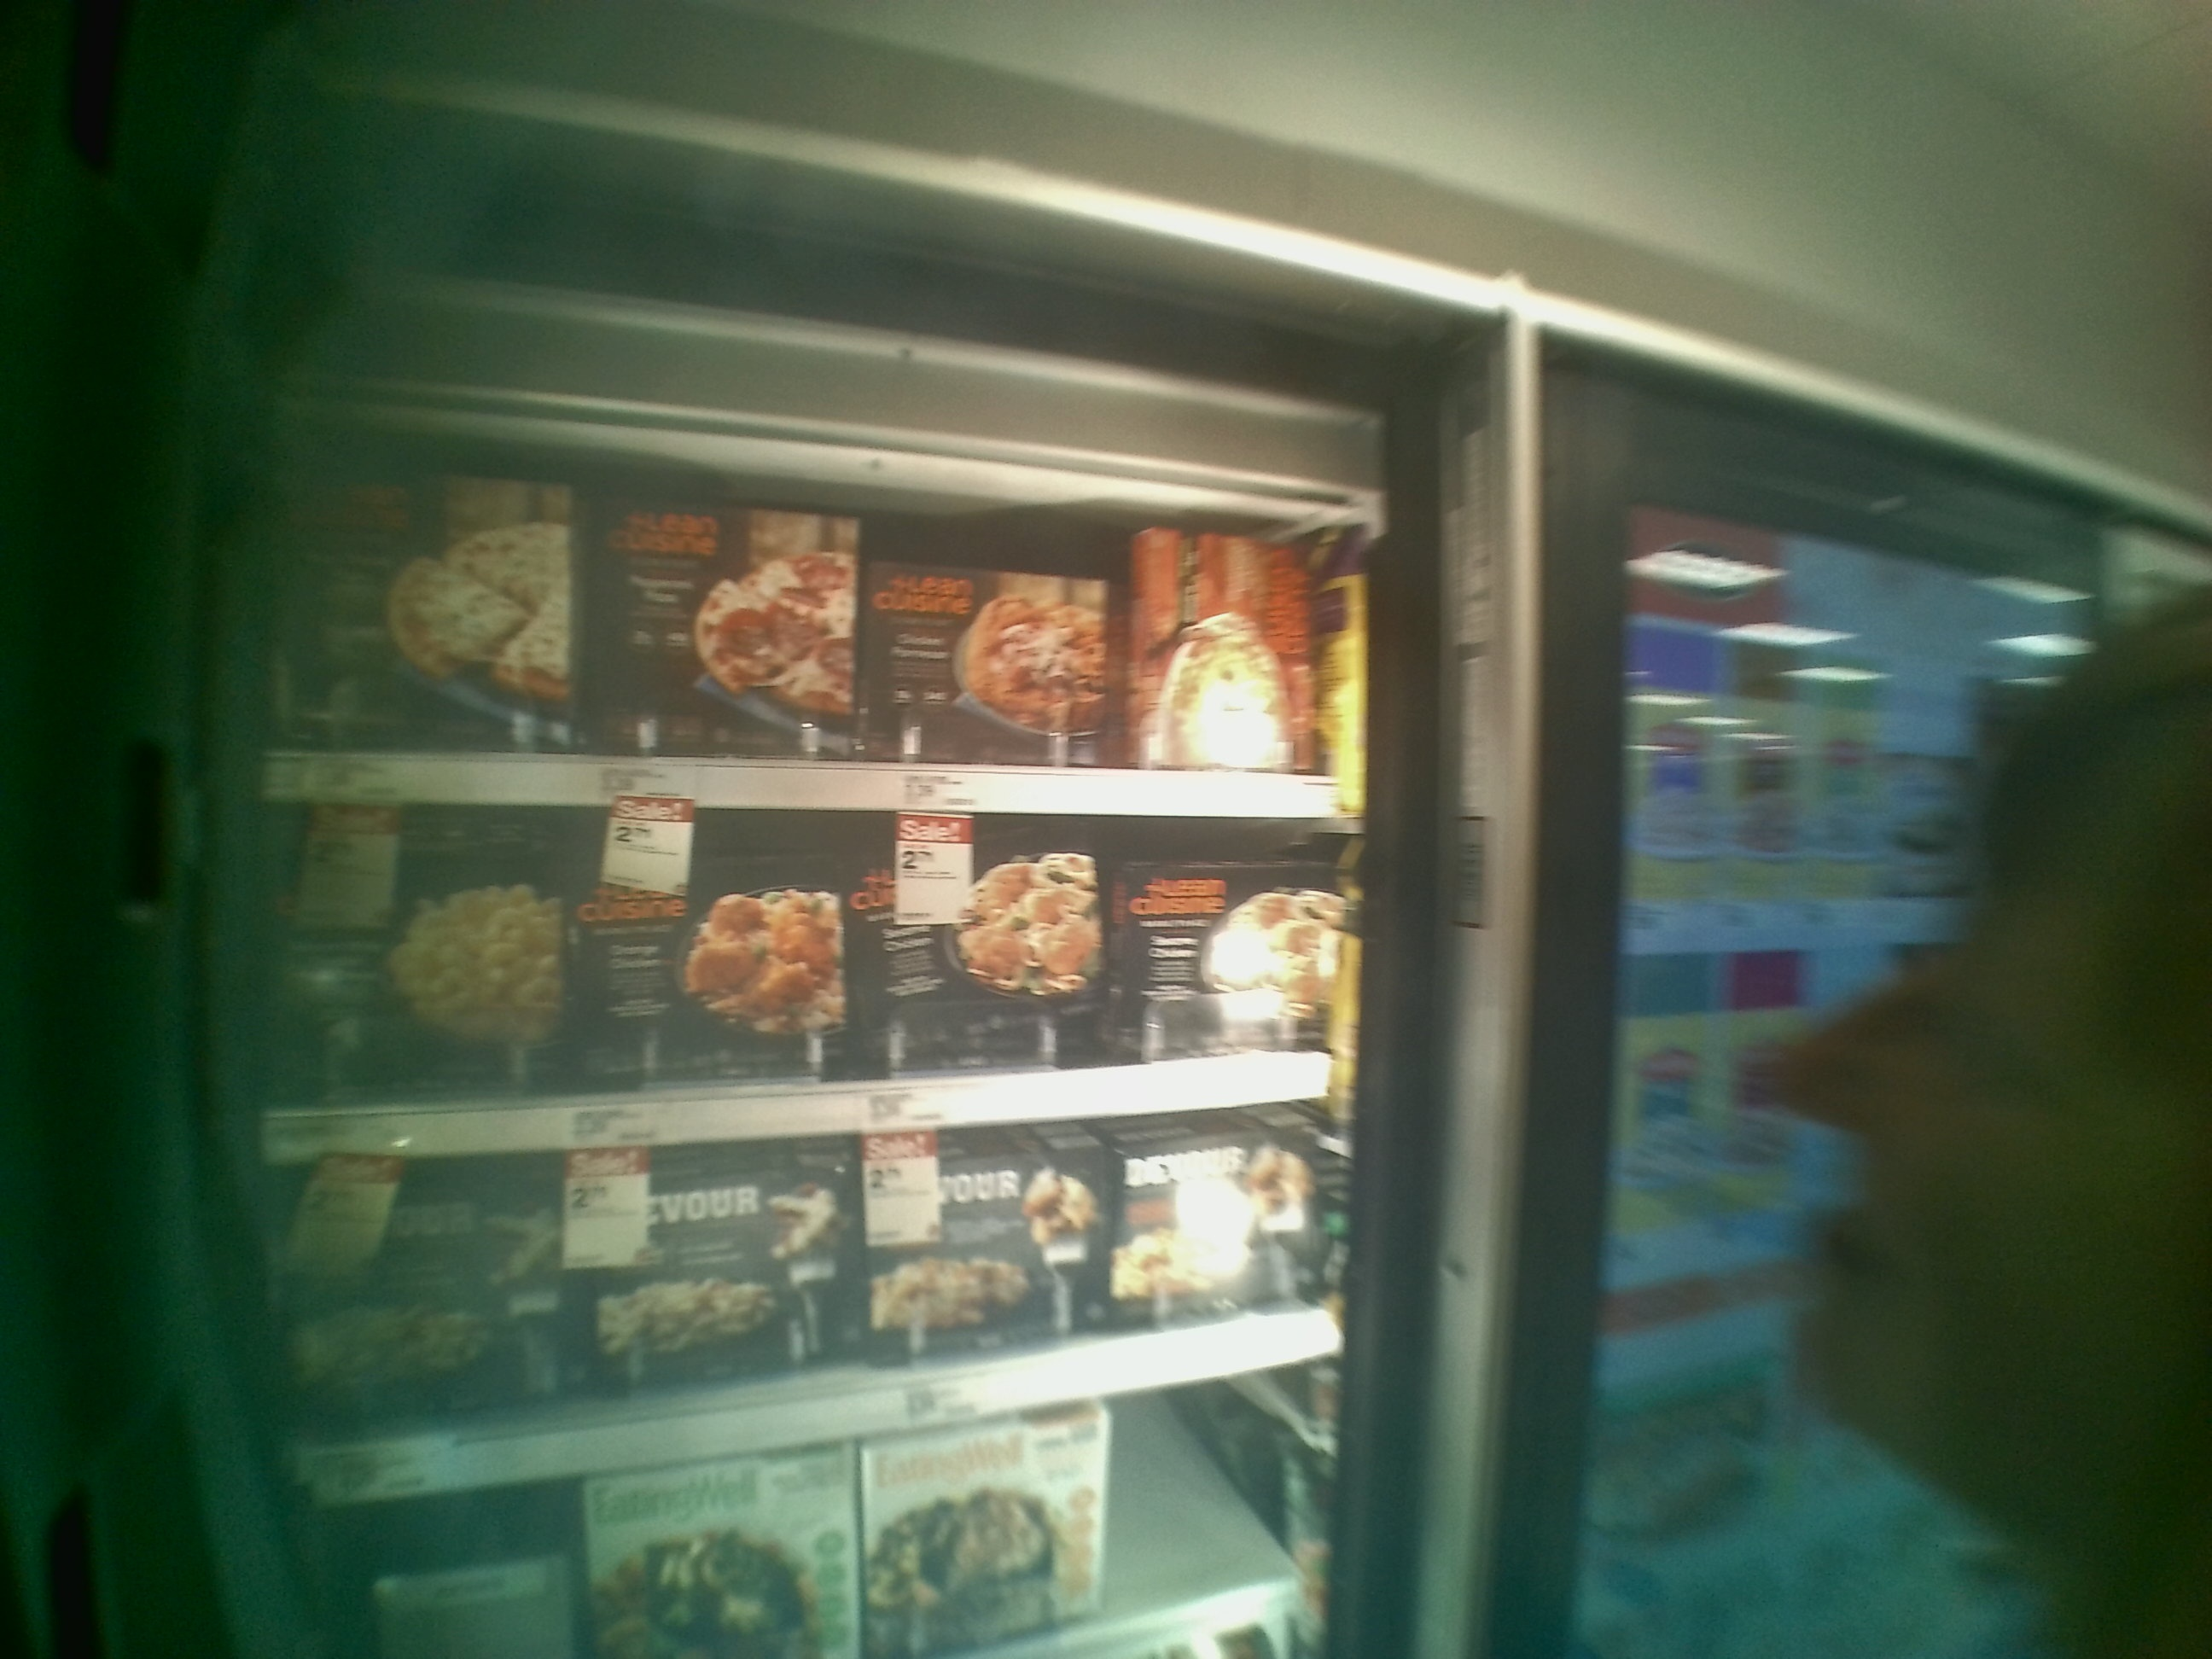shelf: (254, 387, 1366, 823), (275, 1094, 1343, 1514), (249, 803, 1367, 1171)
